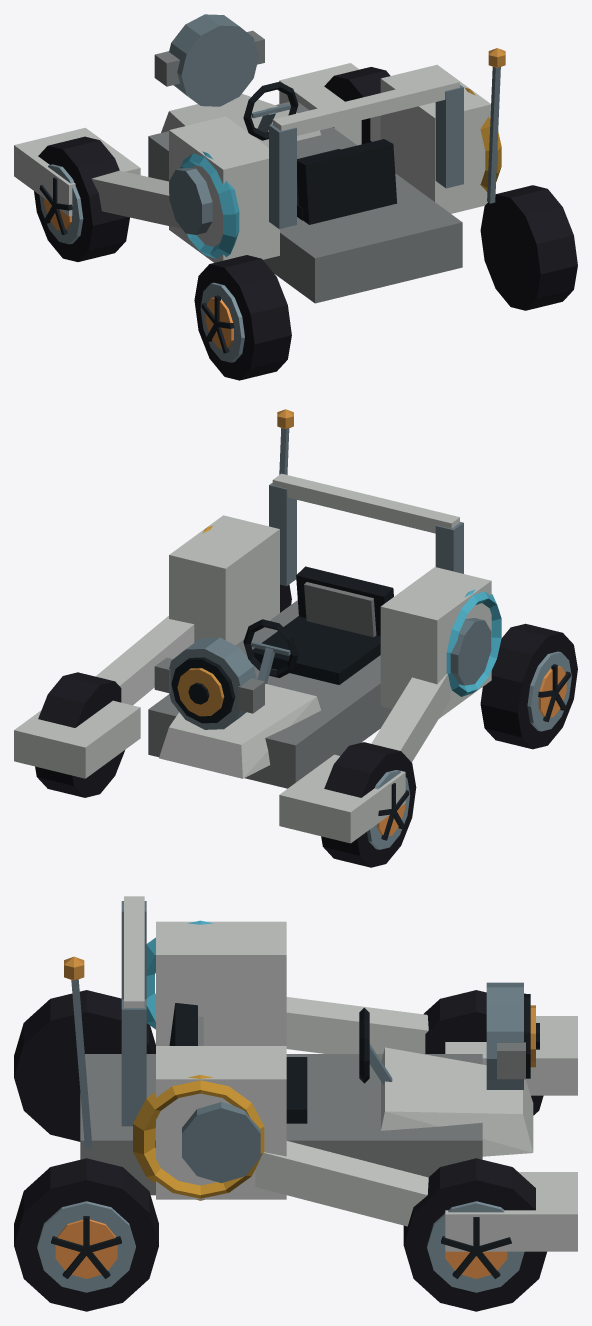
File: kart.glb
3 renders of one model, top to bottom at view 1: azimuth 30°, elevation 25°; view 2: azimuth 150°, elevation 25°; view 3: azimuth 270°, elevation 25°, orthographic. The views are drawn at different scales.
Visible parts, largest first — view 1: identity-mech-mech-articulated-limbs-and-open-harness, wheel-rear-left, wheel-rear-right, identity-mech-driver-cockpit, wheel-front-left, identity-mech-motif-optic, identity-mech-motif-portal-rings, wheel-front-right, identity-mech-motif-antenna; view 2: identity-mech-mech-articulated-limbs-and-open-harness, identity-mech-driver-cockpit, wheel-rear-left, identity-mech-motif-optic, wheel-front-left, wheel-front-right, identity-mech-motif-portal-rings, identity-mech-motif-antenna; view 3: identity-mech-mech-articulated-limbs-and-open-harness, wheel-rear-right, wheel-front-right, wheel-rear-left, identity-mech-motif-portal-rings, identity-mech-motif-optic, identity-mech-driver-cockpit, wheel-front-left, identity-mech-motif-antenna.
Boxes of the visible parts, x1,y1,x2,y2 form: identity-mech-mech-articulated-limbs-and-open-harness: [14, 63, 490, 303]; wheel-rear-left: [194, 255, 291, 380]; wheel-rear-right: [480, 185, 577, 310]; identity-mech-driver-cockpit: [243, 81, 397, 224]; wheel-front-left: [34, 136, 129, 261]; identity-mech-motif-optic: [154, 14, 264, 106]; identity-mech-motif-portal-rings: [180, 87, 501, 258]; wheel-front-right: [324, 67, 390, 144]; identity-mech-motif-antenna: [487, 48, 505, 203]; identity-mech-mech-articulated-limbs-and-open-harness: [14, 473, 491, 843]; identity-mech-driver-cockpit: [243, 566, 393, 684]; wheel-rear-left: [480, 623, 577, 749]; identity-mech-motif-optic: [154, 637, 264, 729]; wheel-front-left: [321, 742, 416, 867]; wheel-front-right: [35, 672, 124, 797]; identity-mech-motif-portal-rings: [202, 525, 501, 696]; identity-mech-motif-antenna: [277, 409, 293, 474]; identity-mech-mech-articulated-limbs-and-open-harness: [80, 896, 577, 1251]; wheel-rear-right: [14, 1158, 158, 1311]; wheel-front-right: [403, 1158, 546, 1311]; wheel-rear-left: [14, 990, 155, 1141]; identity-mech-motif-portal-rings: [133, 920, 264, 1200]; identity-mech-motif-optic: [486, 982, 539, 1089]; identity-mech-driver-cockpit: [169, 1003, 392, 1123]; wheel-front-left: [423, 990, 543, 1115]; identity-mech-motif-antenna: [64, 956, 92, 1148].
Bounding box in the file's own units: 2.29 × 1.72 × 2.72.
